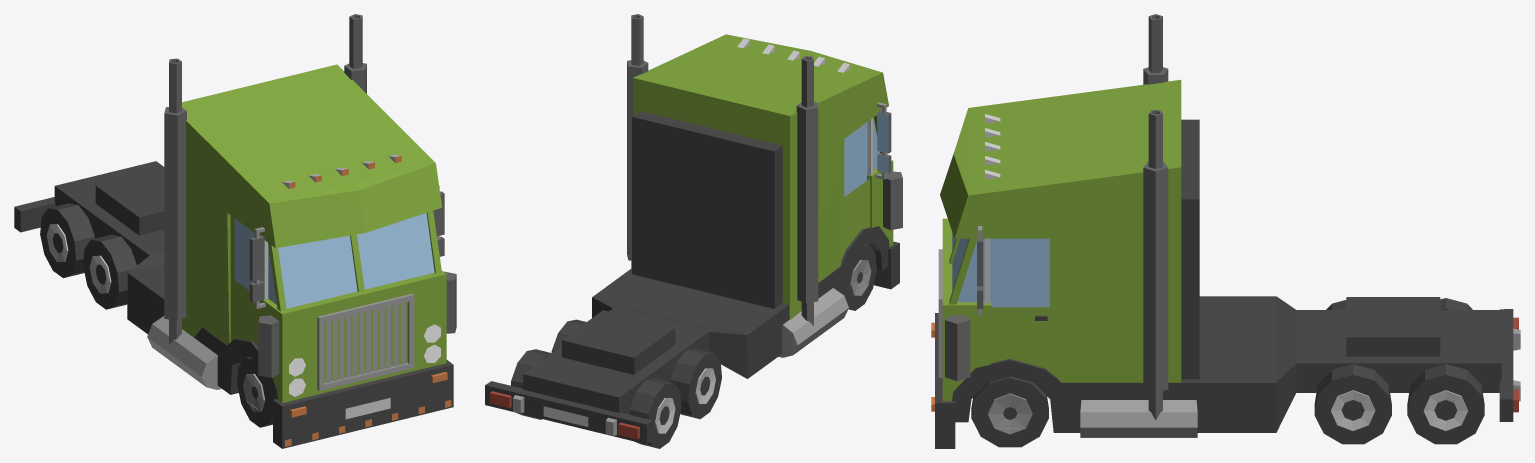
The model's file is transport_truck_009.fbx.
3 views of the same model, side by side, from view 1: azimuth 30°, elevation 25°; view 2: azimuth 150°, elevation 25°; view 3: azimuth 270°, elevation 25° (orthographic). The views are drawn at different scales.
Parts seen in each view (by area): view 1: transport_truck_009; view 2: transport_truck_009; view 3: transport_truck_009.
Boxes of the visible parts, x1=… form: transport_truck_009: x1=14, y1=14, x2=456, y2=448; transport_truck_009: x1=485, y1=14, x2=902, y2=448; transport_truck_009: x1=931, y1=14, x2=1520, y2=448.
Bounding box in the file's own units: 213 × 318 × 497.
